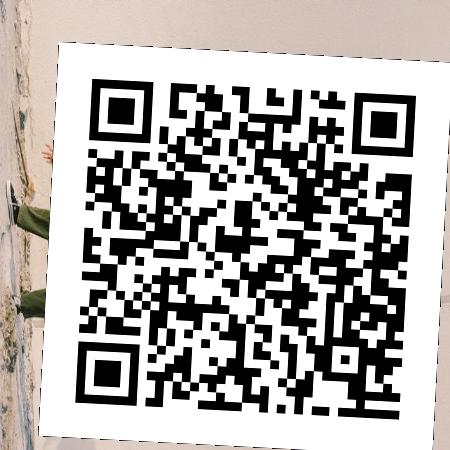qr_code: (38, 40, 449, 450)
